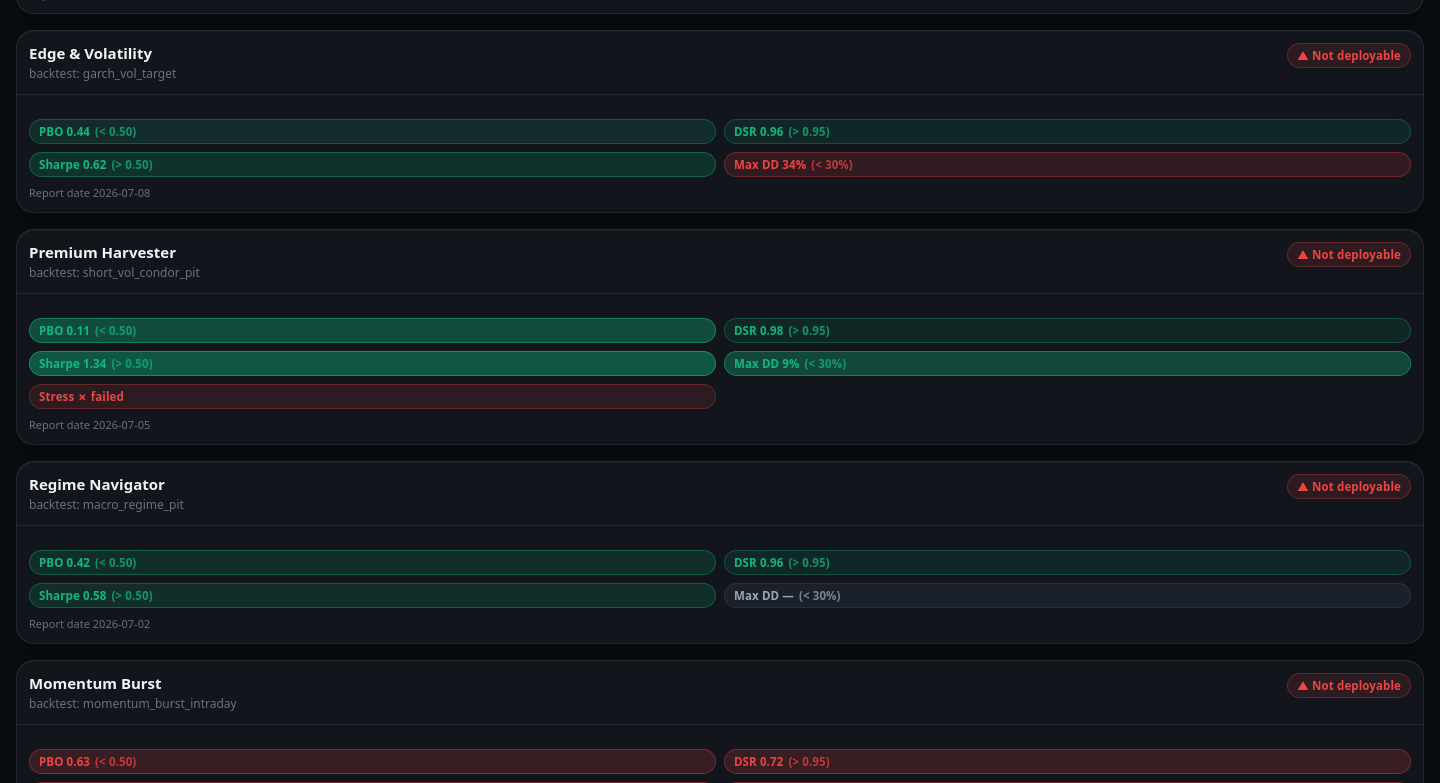
Test: StrategyHealth screen (real mock API) › the stress-gate tooltip degrades to '—' when thresholds are unavailable
(page scrolled)
Click the button "Stress ✗ failed" at (58,396), box [29,384,716,409]
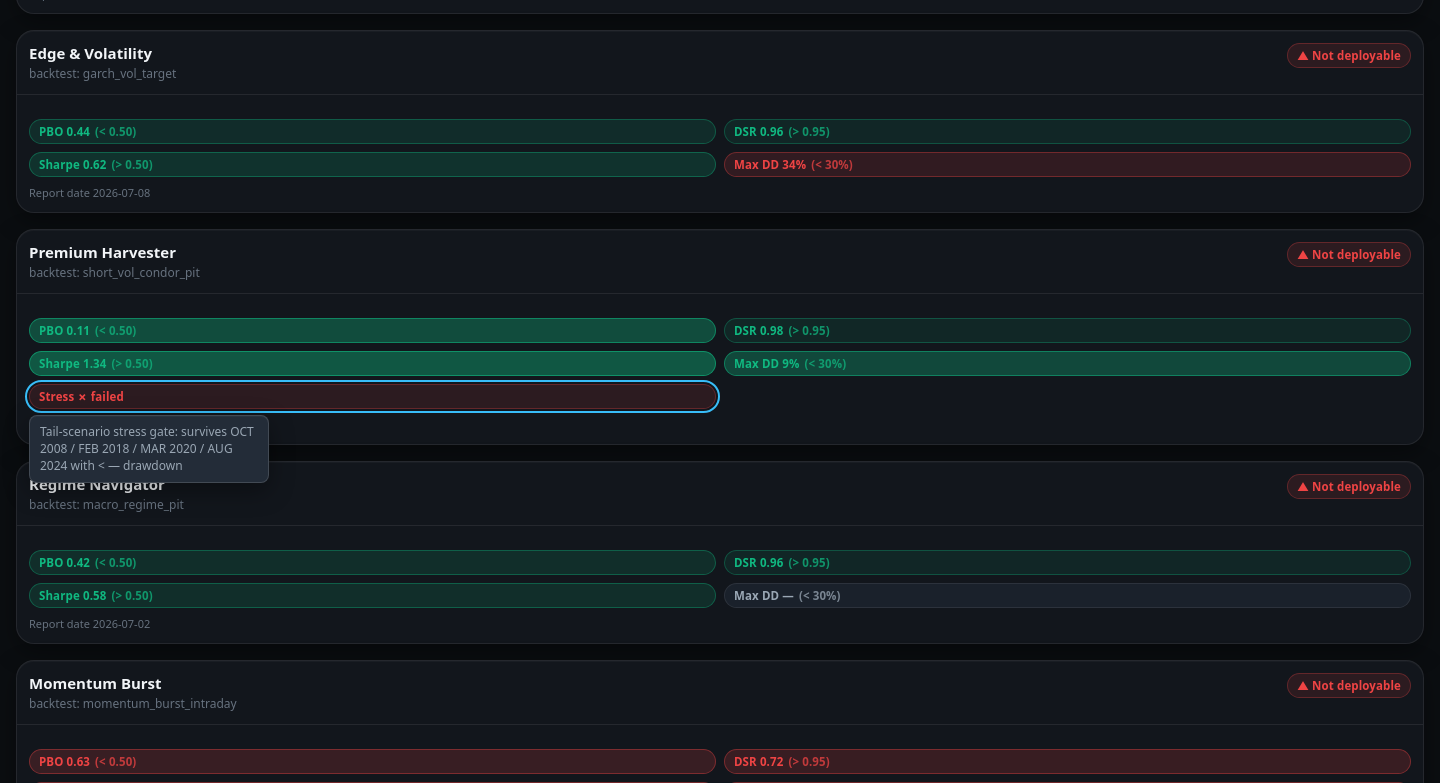
Now the tooltip shows "Tail-scenario stress gate: survives OCT 2008 / FEB 2018 / MAR 2020 / AUG 2024 with < — drawdown", box [40,423,254,474]
